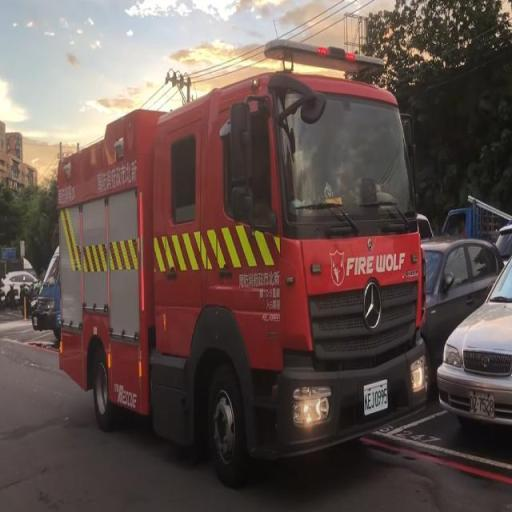fire truck: (38, 35, 436, 495)
